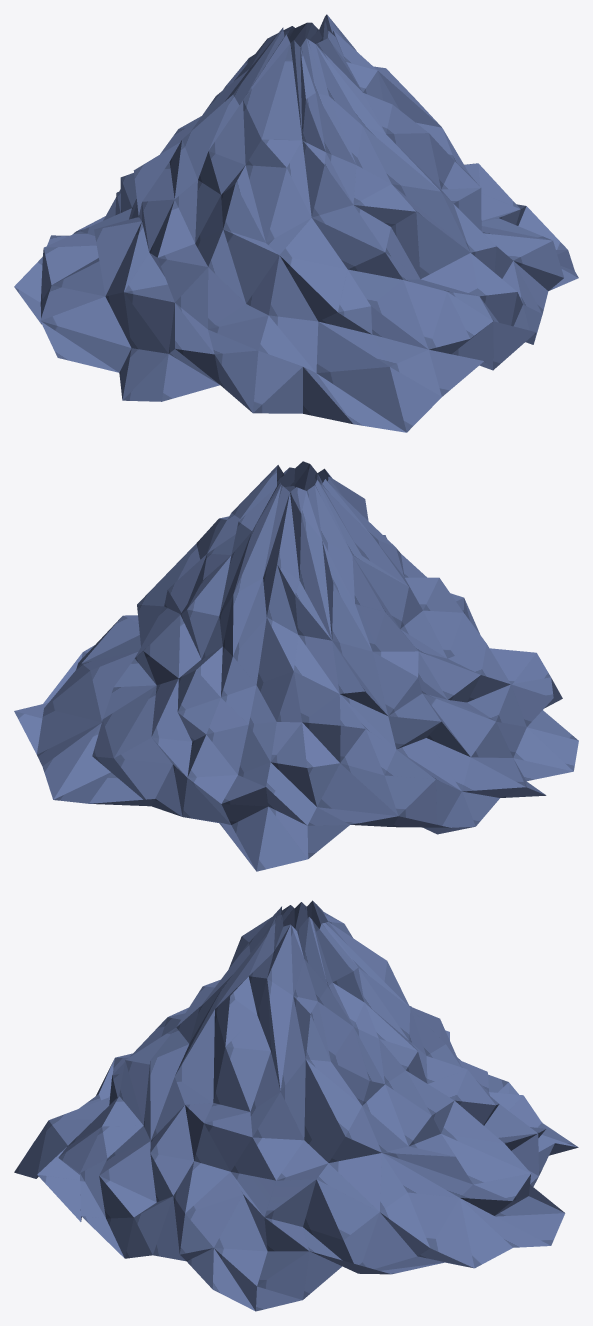
The model's file is peak.obj.
3 views of the same model, one above another, from view 1: azimuth 30°, elevation 25°; view 2: azimuth 150°, elevation 25°; view 3: azimuth 270°, elevation 25° (orthographic). The views are drawn at different scales.
Visible parts, largest first — view 1: peak_roller_mountain_close_match; view 2: peak_roller_mountain_close_match; view 3: peak_roller_mountain_close_match.
Part boxes in pixels (bbox=[...]): peak_roller_mountain_close_match: bbox=[14, 14, 578, 432]; peak_roller_mountain_close_match: bbox=[14, 461, 578, 871]; peak_roller_mountain_close_match: bbox=[14, 900, 578, 1311].
Size of the model in its own units: 14.99 by 8.49 by 15.03.
